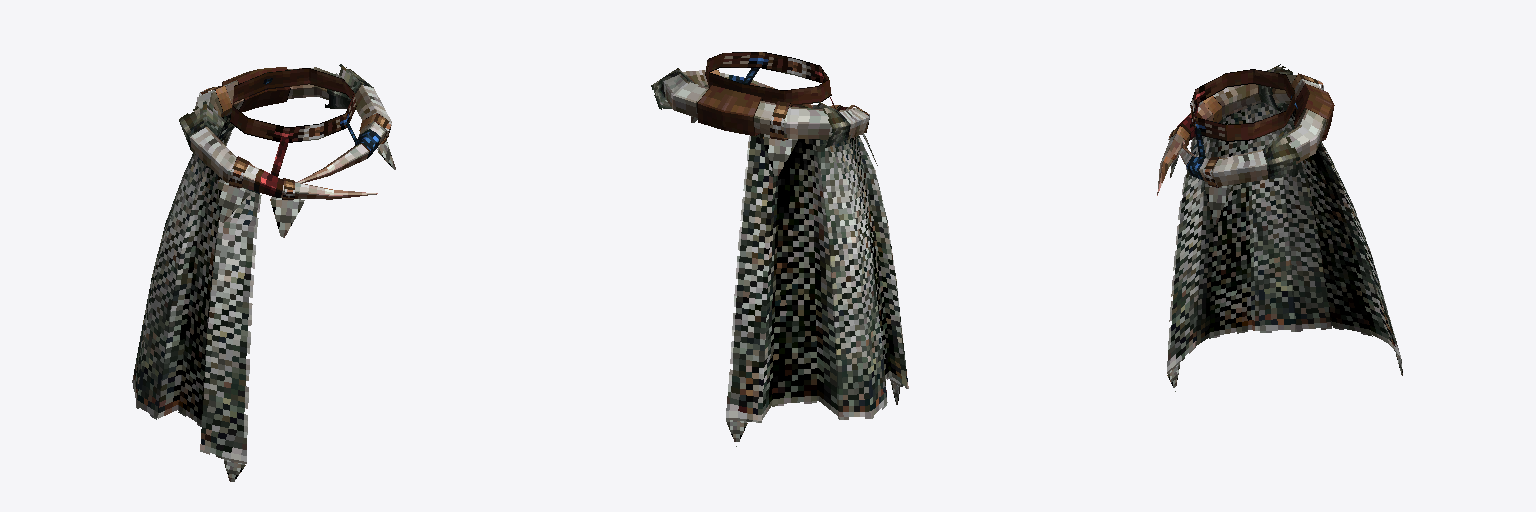
3 renders of one model, left to right at view 1: azimuth 30°, elevation 25°; view 2: azimuth 150°, elevation 25°; view 3: azimuth 270°, elevation 25°, orthographic.
Parts seen in each view (by area): view 1: mesh00; view 2: mesh00; view 3: mesh00.
Part boxes in pixels (bbox=[...]): mesh00: bbox=[132, 64, 395, 481]; mesh00: bbox=[651, 52, 908, 446]; mesh00: bbox=[1157, 64, 1402, 391].
Size of the model in its own units: 59.53 by 88.21 by 56.62.
Materials: 1 (1 with a texture image).